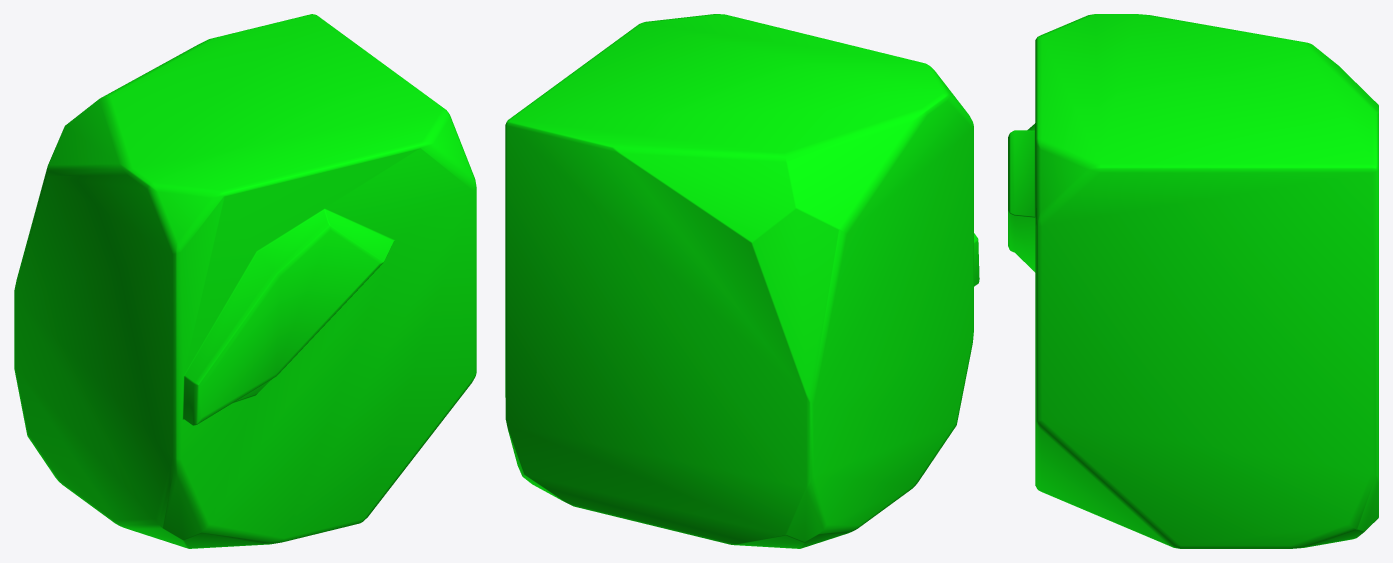
Rendered from Green_Crystal_02.fbx.
3 views of the same model, side by side, from view 1: azimuth 30°, elevation 25°; view 2: azimuth 150°, elevation 25°; view 3: azimuth 270°, elevation 25° (orthographic). The views are drawn at different scales.
Visible parts, largest first — view 1: Green_Crystal_02; view 2: Green_Crystal_02; view 3: Green_Crystal_02.
Part boxes in pixels (x1,y1,x2,y2): Green_Crystal_02: [14, 14, 476, 548]; Green_Crystal_02: [505, 14, 979, 548]; Green_Crystal_02: [1008, 14, 1378, 548].
Size of the model in its own units: 4.3 by 4.96 by 4.33.
